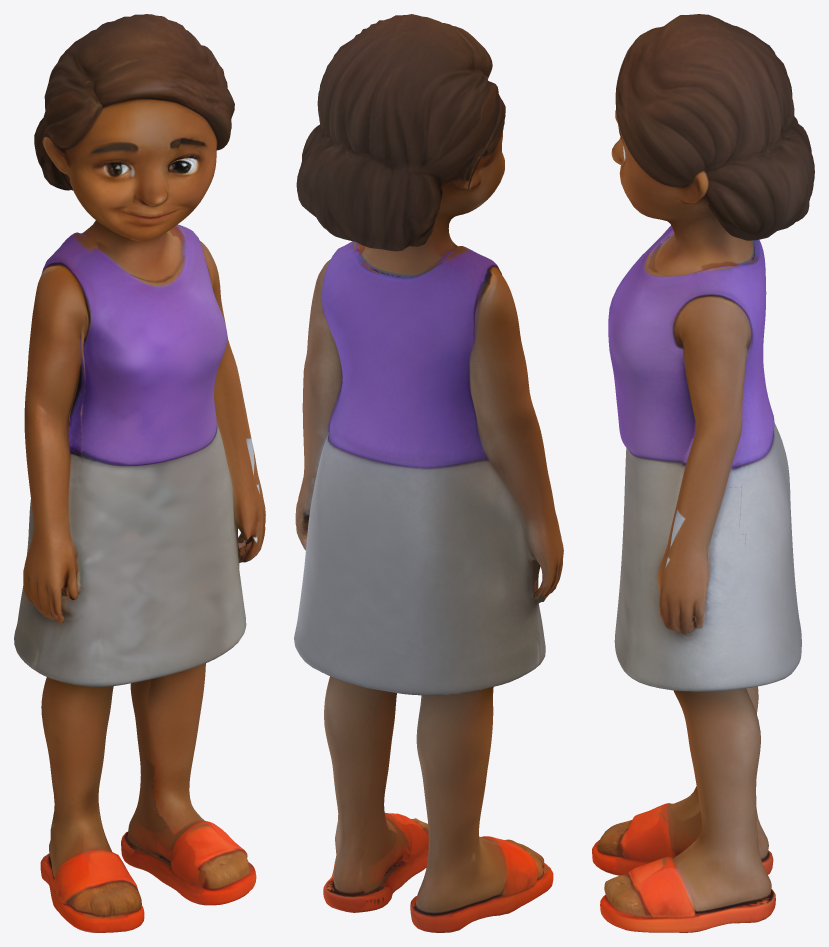
The model's file is PersonajeCasilla52 .glb.
3 renders of one model, left to right at view 1: azimuth 30°, elevation 25°; view 2: azimuth 150°, elevation 25°; view 3: azimuth 270°, elevation 25°, orthographic.
Parts seen in each view (by area): view 1: model; view 2: model; view 3: model.
Part boxes in pixels (box(x1,y1,x2,y2)): model: box(14, 14, 265, 932); model: box(294, 14, 563, 932); model: box(592, 14, 814, 932).
Bounding box in the file's own units: 0.56 × 1.9 × 0.4379.
Materials: 1 (1 with a texture image).
